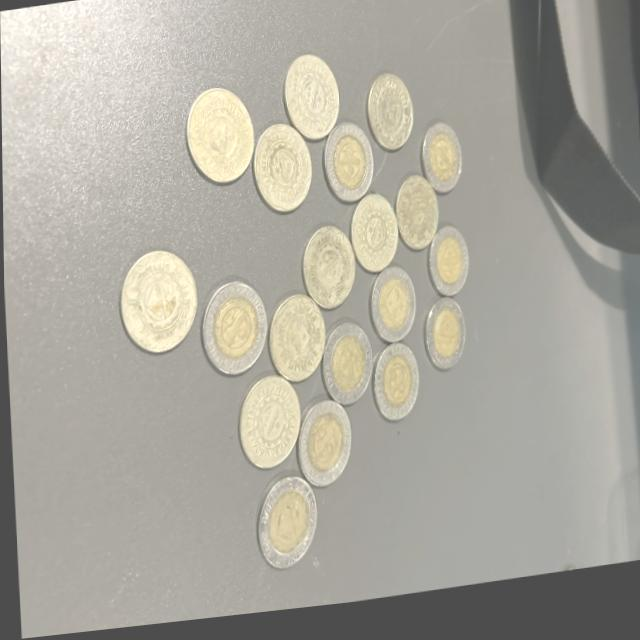10_Old_Back: (198, 279, 268, 383), (254, 478, 314, 579), (319, 331, 373, 414), (322, 132, 374, 214), (367, 274, 415, 354)
5_Old_Back: (236, 380, 300, 477), (250, 124, 312, 222), (281, 57, 340, 149), (347, 199, 398, 283), (361, 88, 412, 160)
